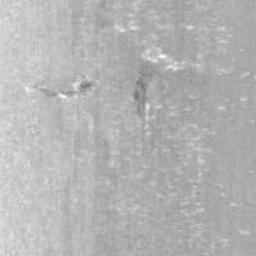Inclusion: (37, 78, 97, 100), (132, 77, 147, 120)
